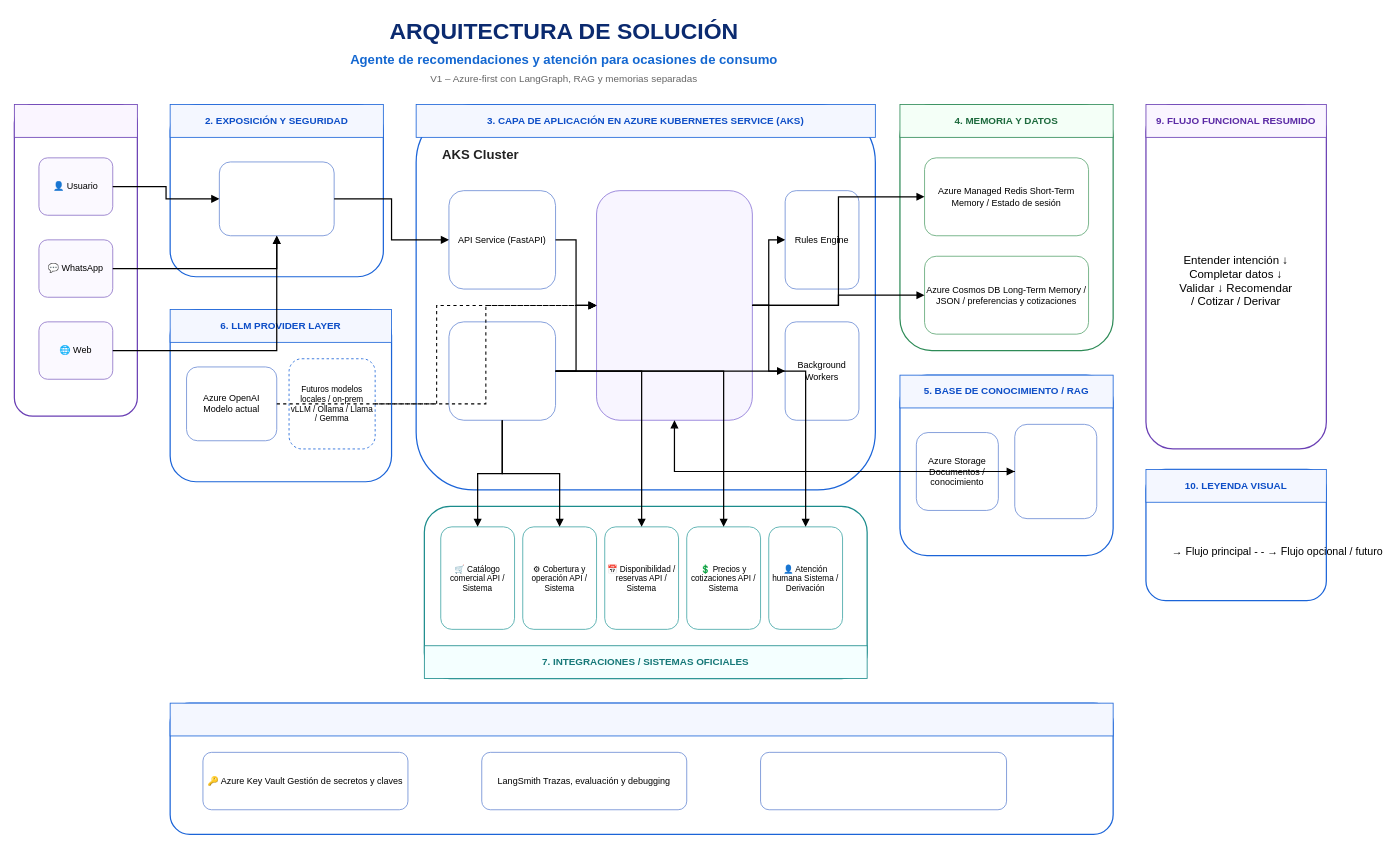
This 1397x849 diagram has some shape labels left out. The shapes that lost their labels are listed below. From the top down, each one's box as (x1, y1, x2, y2) in pixels, then its label:
(14, 104, 137, 137): 1. CANALES
(219, 161, 334, 236): ☁ API Management
(596, 190, 752, 420): Agent Orchestrator (LangGraph)
(448, 321, 556, 420): Tool Layer / Adapters
(1014, 424, 1097, 519): Azure AI Search Indexación y búsqueda semántica / híbrida para RAG
(169, 702, 1113, 736): 8. SEGURIDAD, OBSERVABILIDAD Y GOBIERNO (CAPA TRANSVERSAL)
(760, 752, 1007, 810): 🛡 Guardrails / Evals Políticas, seguridad, evaluaciones y calidad
